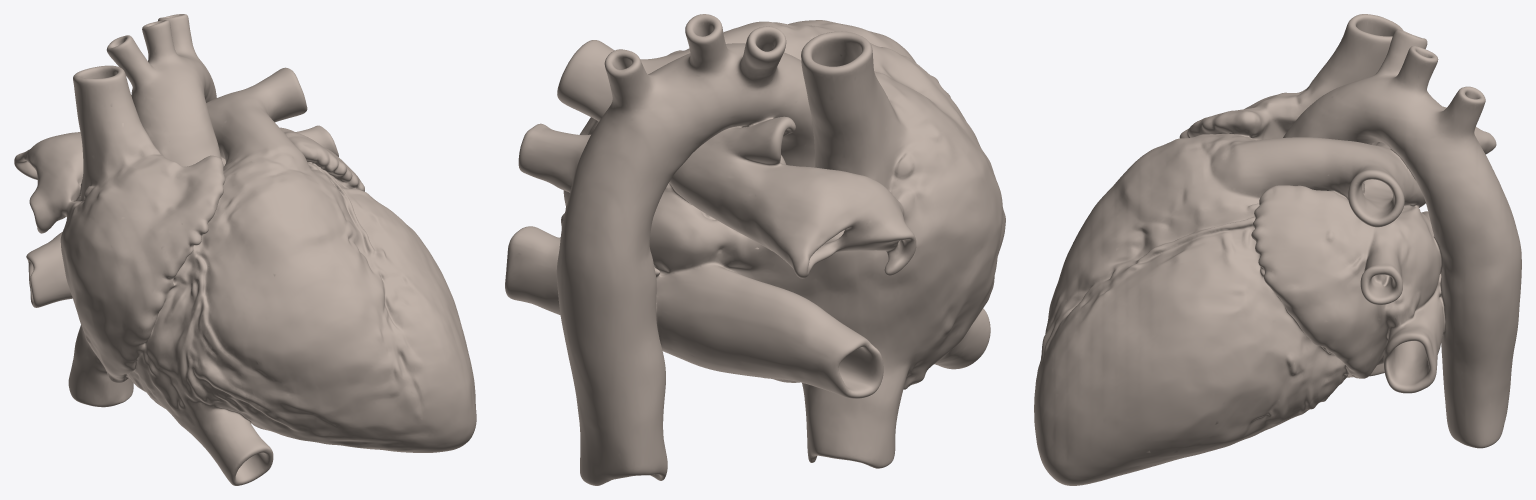
The model's file is heart-shape.glb.
The picture shows the model from 3 angles, left to right: view 1: azimuth 30°, elevation 25°; view 2: azimuth 150°, elevation 25°; view 3: azimuth 270°, elevation 25°; orthographic projection. The views are drawn at different scales.
Visible parts, largest first — view 1: generated_heart_candidate_0; view 2: generated_heart_candidate_0; view 3: generated_heart_candidate_0.
Boxes of the visible parts, box(x1,y1,x2,y2) form: generated_heart_candidate_0: box(14, 14, 476, 485); generated_heart_candidate_0: box(505, 14, 1005, 485); generated_heart_candidate_0: box(1034, 14, 1521, 485).
Size of the model in its own units: 1.63 by 1.71 by 1.99.
